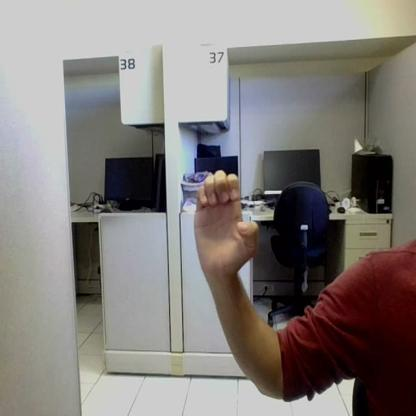E: (194, 170, 259, 273)
